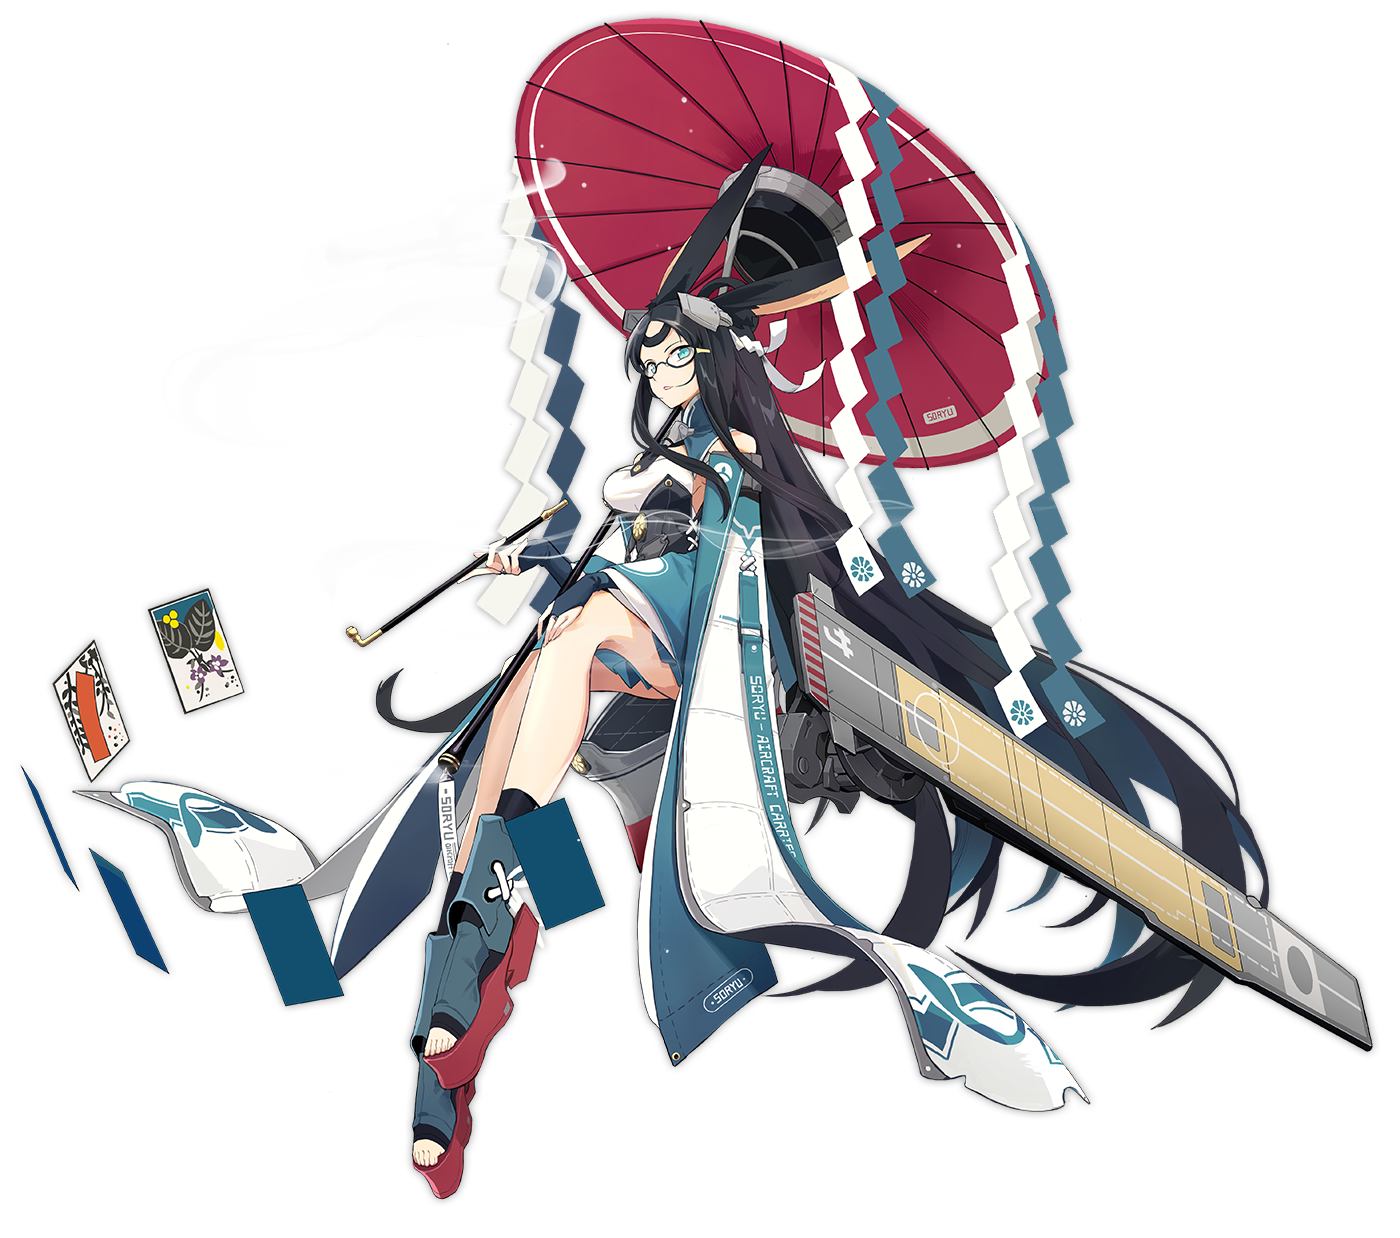person: (388, 286, 895, 1039)
